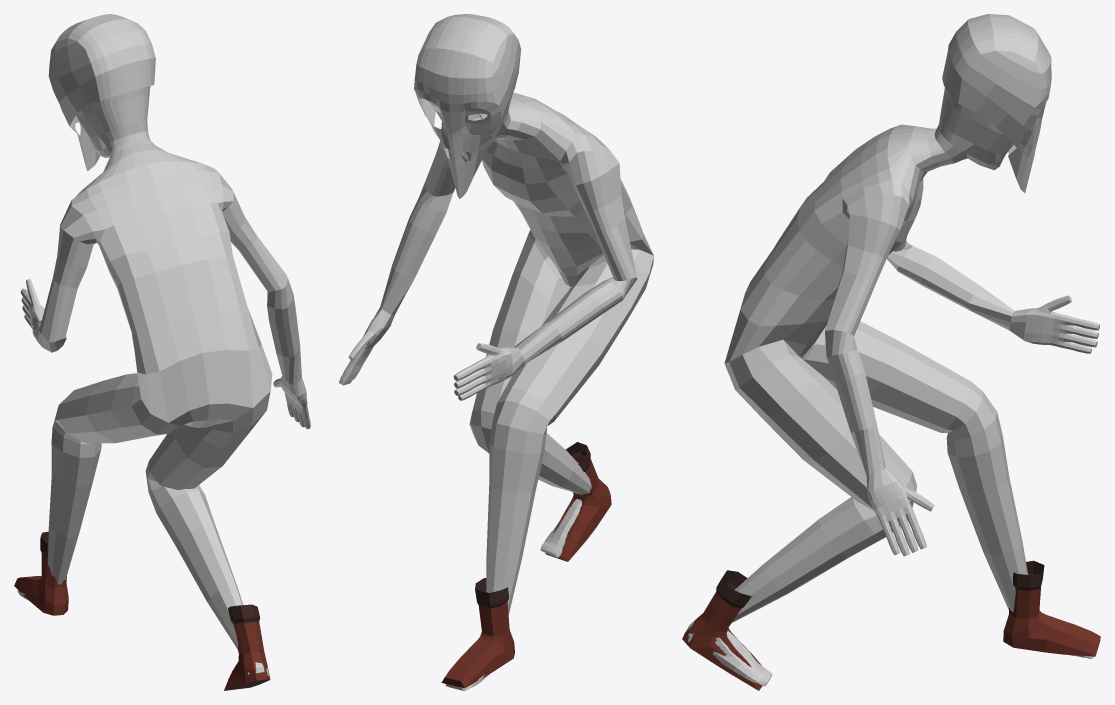
The model's file is saltoadelante_000139.obj.
3 renders of one model, left to right at view 1: azimuth 30°, elevation 25°; view 2: azimuth 150°, elevation 25°; view 3: azimuth 270°, elevation 25°, orthographic. The views are drawn at different scales.
Parts seen in each view (by area): view 1: Plane.002_Plane.001, Plane.003, Plane.004; view 2: Plane.002_Plane.001, Plane.004, Plane.003; view 3: Plane.002_Plane.001, Plane.004, Plane.003.
Part boxes in pixels (x1,y1,x2,y2): Plane.002_Plane.001: [17, 14, 310, 678]; Plane.003: [224, 604, 270, 690]; Plane.004: [14, 531, 68, 615]; Plane.002_Plane.001: [339, 14, 653, 690]; Plane.004: [441, 578, 514, 688]; Plane.003: [545, 442, 611, 561]; Plane.002_Plane.001: [686, 14, 1099, 686]; Plane.004: [1003, 560, 1100, 656]; Plane.003: [682, 570, 762, 690].
Size of the model in its own units: 2.65 by 5.56 by 3.25.
